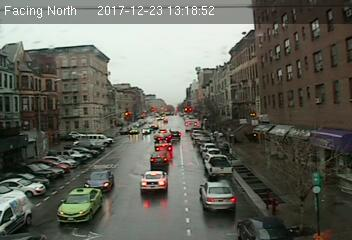car: (56, 187, 103, 224), (199, 182, 236, 212), (140, 169, 168, 193), (84, 170, 113, 193), (204, 154, 233, 177), (149, 150, 170, 168)
